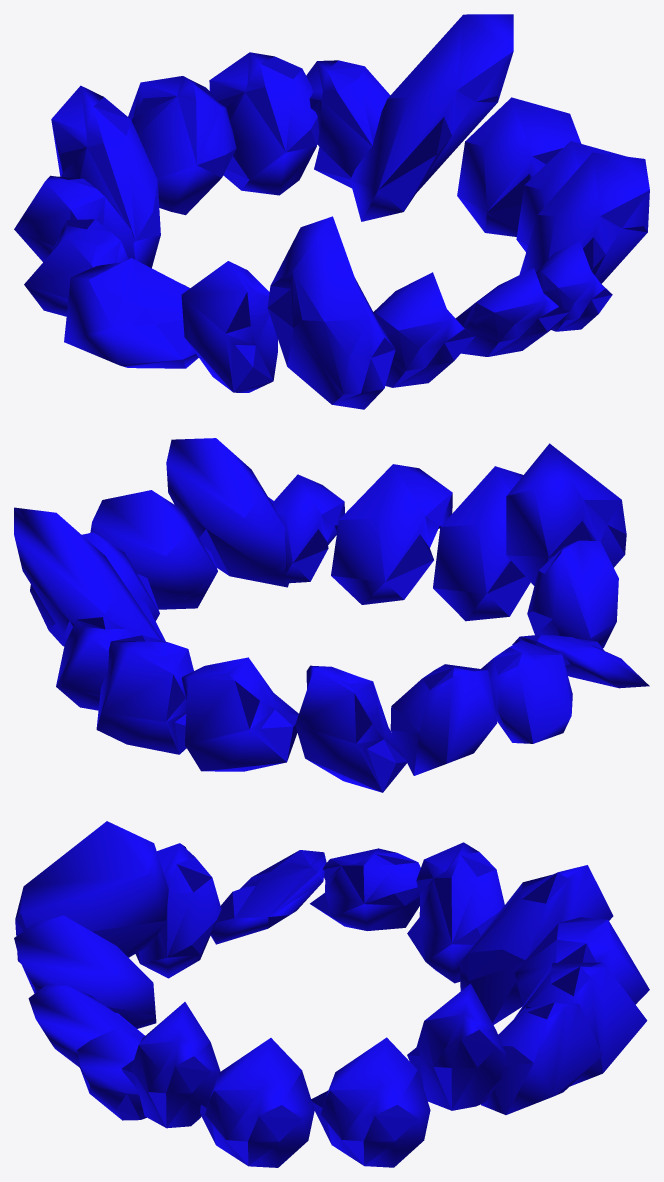
File: ataqueEnemigoFuerte.fbx
3 renders of one model, top to bottom at view 1: azimuth 30°, elevation 25°; view 2: azimuth 150°, elevation 25°; view 3: azimuth 270°, elevation 25°, orthographic. The views are drawn at different scales.
Visible parts, largest first — view 1: Box018, Box011, Box005, Box008, Box015, Box003, Box004, Box017, Box007, Box006, Box012, Box013 (+4 smaller); view 2: Box013, Box015, Box004, Box011, Box018, Box012, Box003, Box005, Box016, Box010, Box007, Box009 (+4 smaller); view 3: Box011, Box017, Box016, Box003, Box012, Box010, Box006, Box018, Box015, Box009, Box007, Box005 (+4 smaller).
Boxes of the visible parts, x1=… form: Box018: x1=350, y1=14, x2=513, y2=221; Box011: x1=267, y1=216, x2=395, y2=409; Box005: x1=209, y1=52, x2=318, y2=195; Box008: x1=64, y1=258, x2=198, y2=368; Box015: x1=519, y1=152, x2=649, y2=283; Box003: x1=51, y1=85, x2=160, y2=268; Box004: x1=128, y1=76, x2=236, y2=215; Box017: x1=457, y1=97, x2=581, y2=236; Box007: x1=181, y1=261, x2=277, y2=392; Box006: x1=306, y1=60, x2=390, y2=188; Box012: x1=373, y1=272, x2=475, y2=387; Box013: x1=455, y1=268, x2=569, y2=356; Box013: x1=331, y1=464, x2=452, y2=604; Box015: x1=166, y1=438, x2=288, y2=587; Box004: x1=181, y1=657, x2=298, y2=771; Box011: x1=506, y1=443, x2=626, y2=585; Box018: x1=14, y1=507, x2=165, y2=641; Box012: x1=433, y1=466, x2=530, y2=621; Box003: x1=295, y1=665, x2=406, y2=792; Box005: x1=96, y1=635, x2=193, y2=754; Box016: x1=90, y1=490, x2=217, y2=609; Box010: x1=390, y1=664, x2=497, y2=775; Box007: x1=527, y1=540, x2=618, y2=648; Box009: x1=481, y1=640, x2=572, y2=743; Box011: x1=15, y1=821, x2=168, y2=963; Box017: x1=311, y1=1037, x2=430, y2=1167; Box016: x1=200, y1=1038, x2=314, y2=1167; Box003: x1=460, y1=865, x2=613, y2=1024; Box012: x1=14, y1=915, x2=156, y2=1028; Box010: x1=407, y1=842, x2=504, y2=983; Box006: x1=481, y1=1002, x2=602, y2=1114; Box018: x1=407, y1=983, x2=506, y2=1110; Box015: x1=121, y1=1002, x2=220, y2=1128; Box009: x1=310, y1=848, x2=420, y2=930; Box007: x1=135, y1=843, x2=221, y2=978; Box005: x1=514, y1=962, x2=647, y2=1086.
Bounding box in the file's own units: 3.15 × 1.11 × 3.13.
